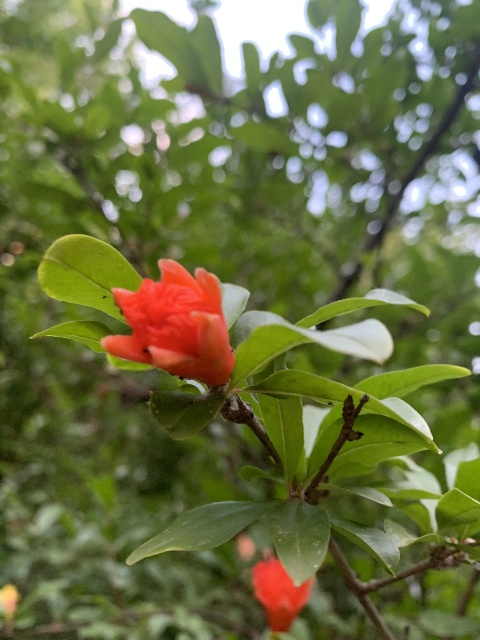flower: (103, 259, 234, 388), (251, 557, 312, 632)
